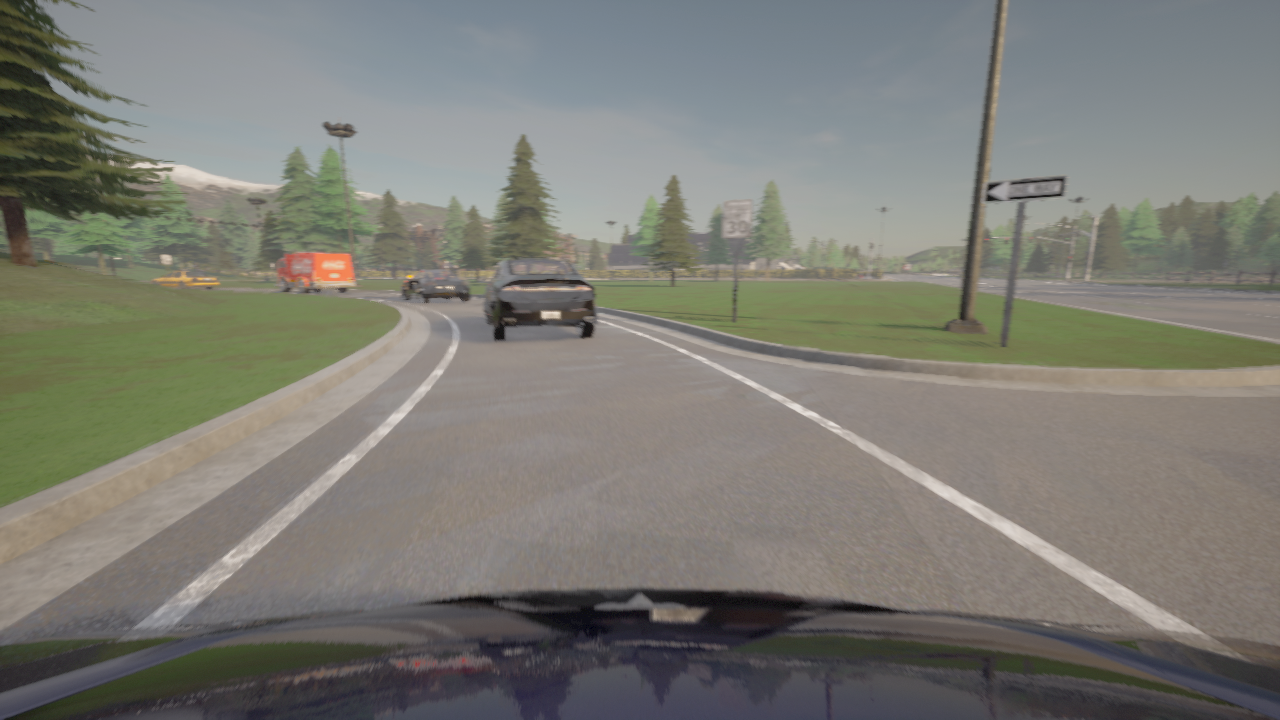cyclist: (0, 588, 1279, 719), (478, 258, 596, 340), (270, 252, 355, 293), (401, 270, 470, 303), (149, 269, 219, 289)
